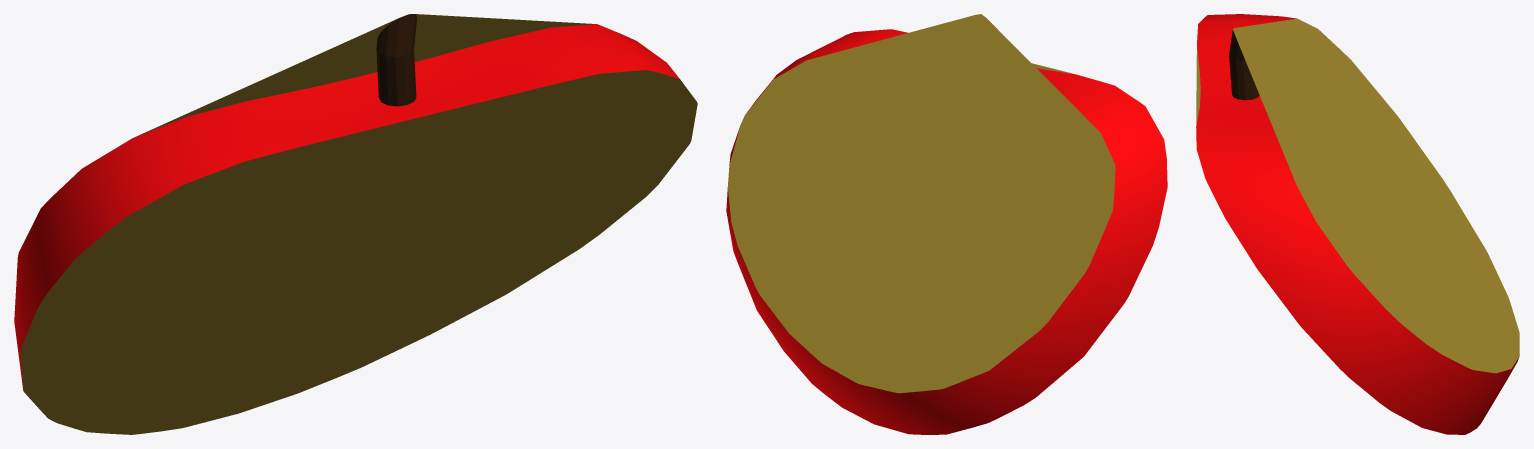
Rendered from apple05.fbx.
3 views of the same model, side by side, from view 1: azimuth 30°, elevation 25°; view 2: azimuth 150°, elevation 25°; view 3: azimuth 270°, elevation 25° (orthographic). The views are drawn at different scales.
Parts seen in each view (by area): view 1: apple05; view 2: apple05; view 3: apple05.
Part boxes in pixels (box(x1,y1,x2,y2)): apple05: box(14, 14, 697, 434); apple05: box(726, 14, 1167, 434); apple05: box(1196, 14, 1519, 434).
Bounding box in the file's own units: 0.1854 × 0.1434 × 0.1084.
